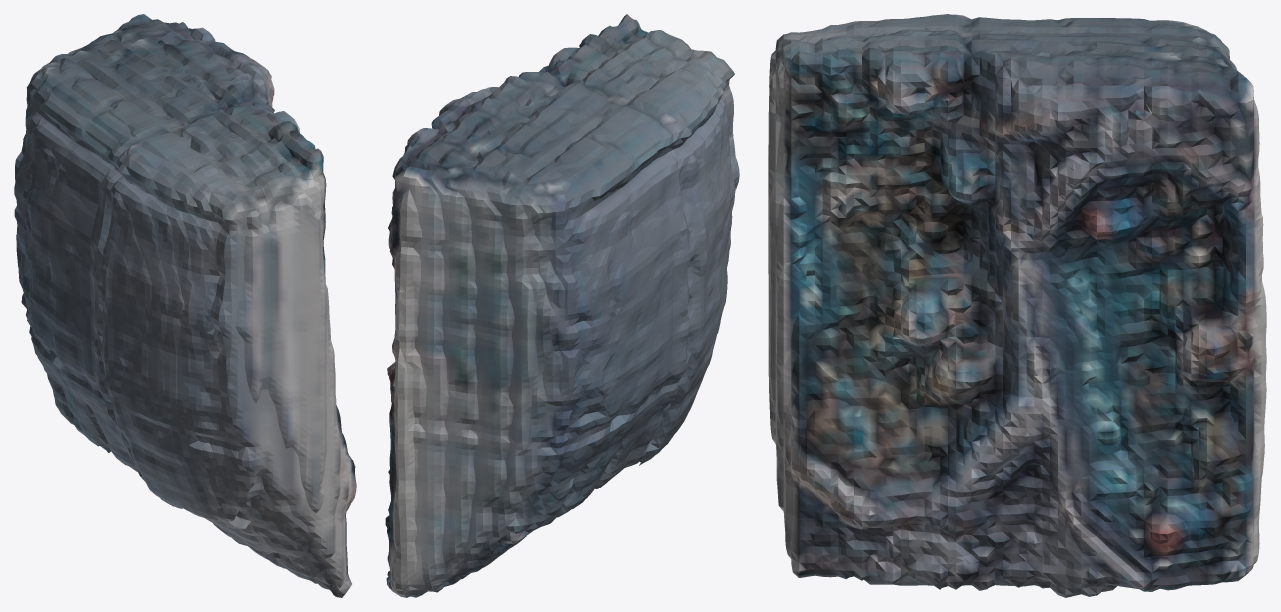
The model's file is building-engineering.glb.
The picture shows the model from 3 angles, left to right: view 1: azimuth 30°, elevation 25°; view 2: azimuth 150°, elevation 25°; view 3: azimuth 270°, elevation 25°; orthographic projection. The views are drawn at different scales.
Parts seen in each view (by area): view 1: world; view 2: world; view 3: world.
Part boxes in pixels (x1,y1,x2,y2): world: [14, 14, 356, 597]; world: [385, 14, 739, 597]; world: [768, 14, 1266, 597].
Bounding box in the file's own units: 0.4955 × 1.02 × 0.8715.
